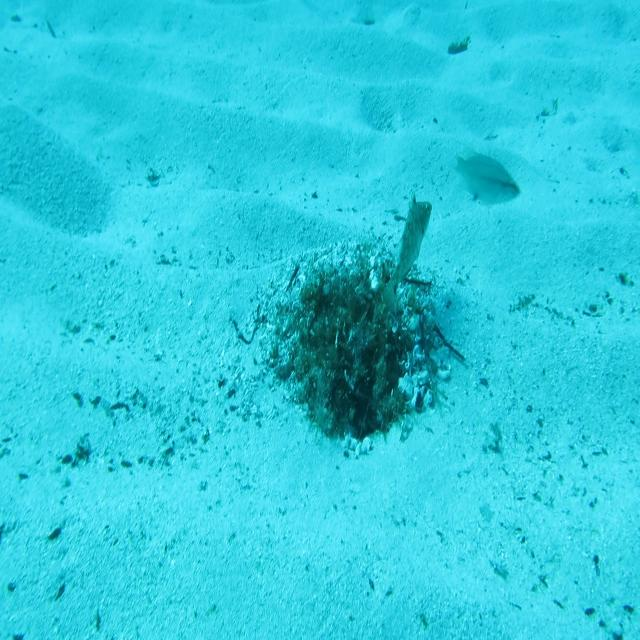MAF: (381, 186, 434, 311)
core_nest: (323, 289, 367, 328)
female: (450, 146, 524, 208)
nest: (249, 224, 465, 474)
vegetation: (447, 34, 470, 54)
